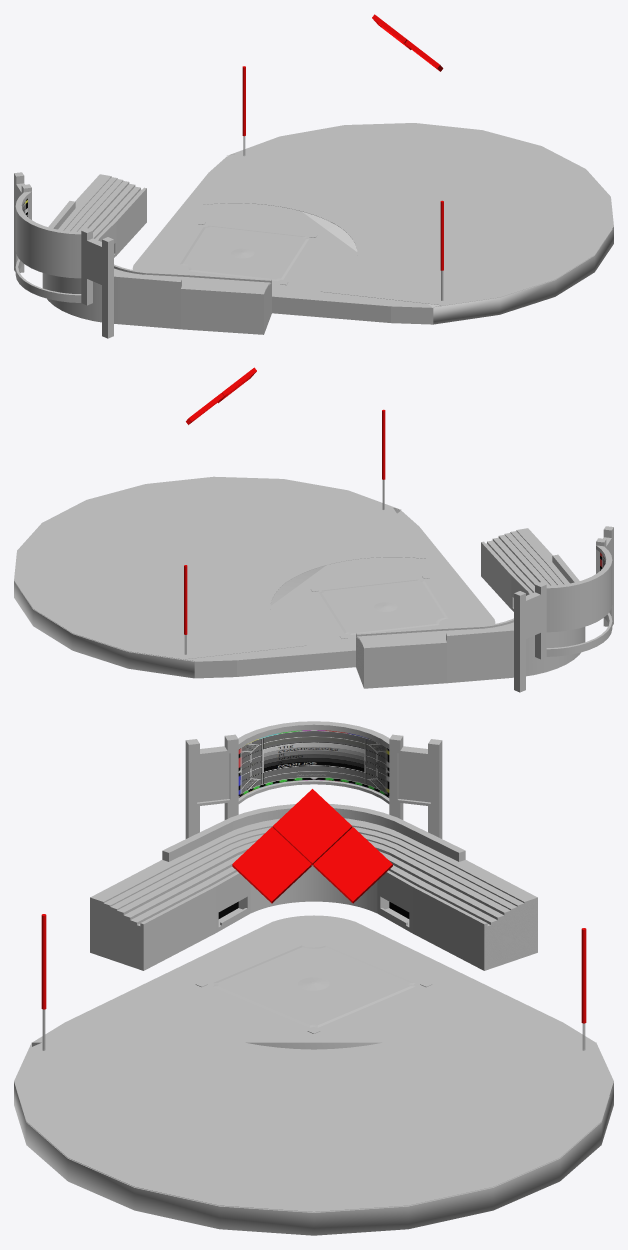
File: BasicField.fbx
3 views of the same model, one above another, from view 1: azimuth 30°, elevation 25°; view 2: azimuth 150°, elevation 25°; view 3: azimuth 270°, elevation 25° (orthographic). The views are drawn at different scales.
Parts seen in each view (by area): view 1: Stadium, GODS; view 2: Stadium, GODS; view 3: Stadium, GODS, Big Scoreboard, Away Team Banner, Home Team Banner.
Boxes of the visible parts, x1=… form: Stadium: x1=14, y1=66, x2=613, y2=338; GODS: x1=372, y1=14, x2=443, y2=71; Stadium: x1=14, y1=409, x2=613, y2=692; GODS: x1=186, y1=367, x2=256, y2=424; Stadium: x1=14, y1=721, x2=613, y2=1235; GODS: x1=232, y1=789, x2=392, y2=903; Big Scoreboard: x1=238, y1=730, x2=389, y2=797; Away Team Banner: x1=197, y1=753, x2=229, y2=802; Home Team Banner: x1=398, y1=753, x2=430, y2=802.
Bounding box in the file's own units: 15407 × 5883 × 10455.
